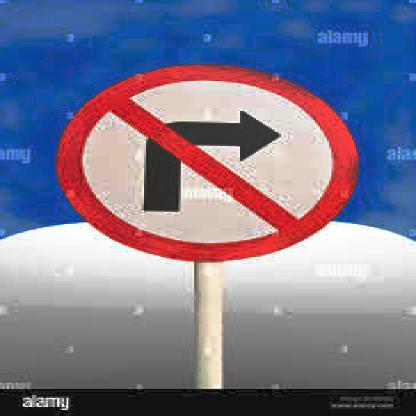No right turn: (58, 65, 360, 257)
